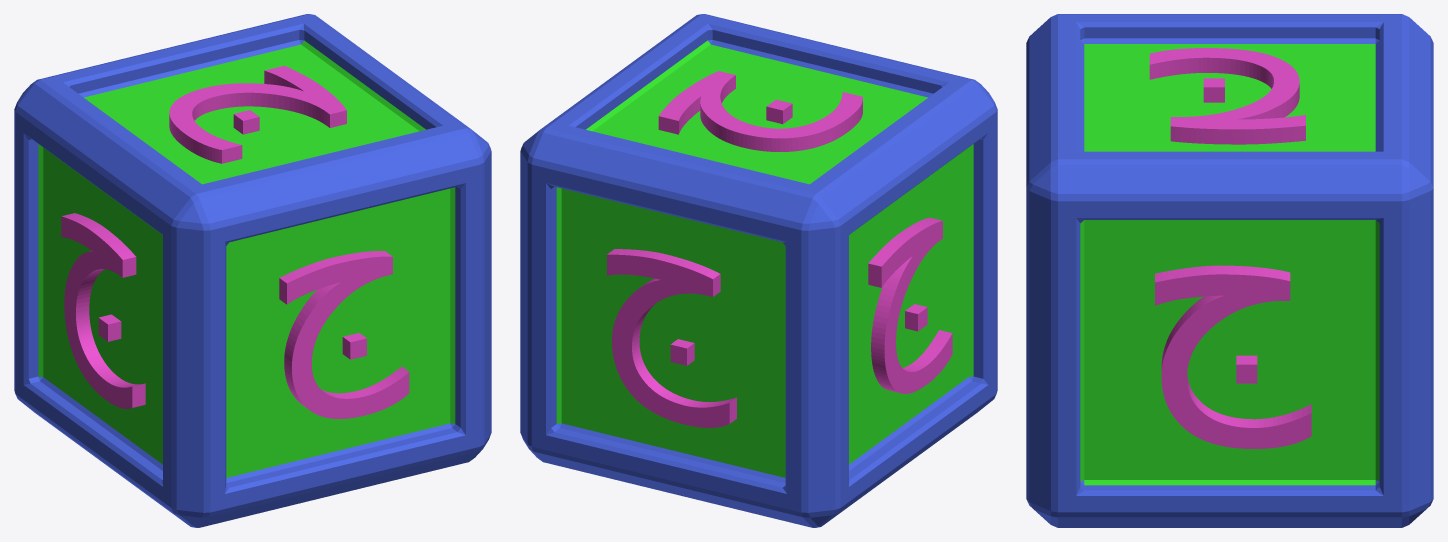
The picture shows the model from 3 angles, left to right: view 1: azimuth 30°, elevation 25°; view 2: azimuth 150°, elevation 25°; view 3: azimuth 270°, elevation 25°; orthographic projection. The views are drawn at different scales.
Visible parts, largest first — view 1: Text.005; view 2: Text.005; view 3: Text.005.
Boxes of the visible parts, x1,y1,x2,y2 form: Text.005: [14, 14, 491, 527]; Text.005: [520, 14, 997, 527]; Text.005: [1026, 14, 1433, 527].
Bounding box in the file's own units: 15 × 15 × 15.
